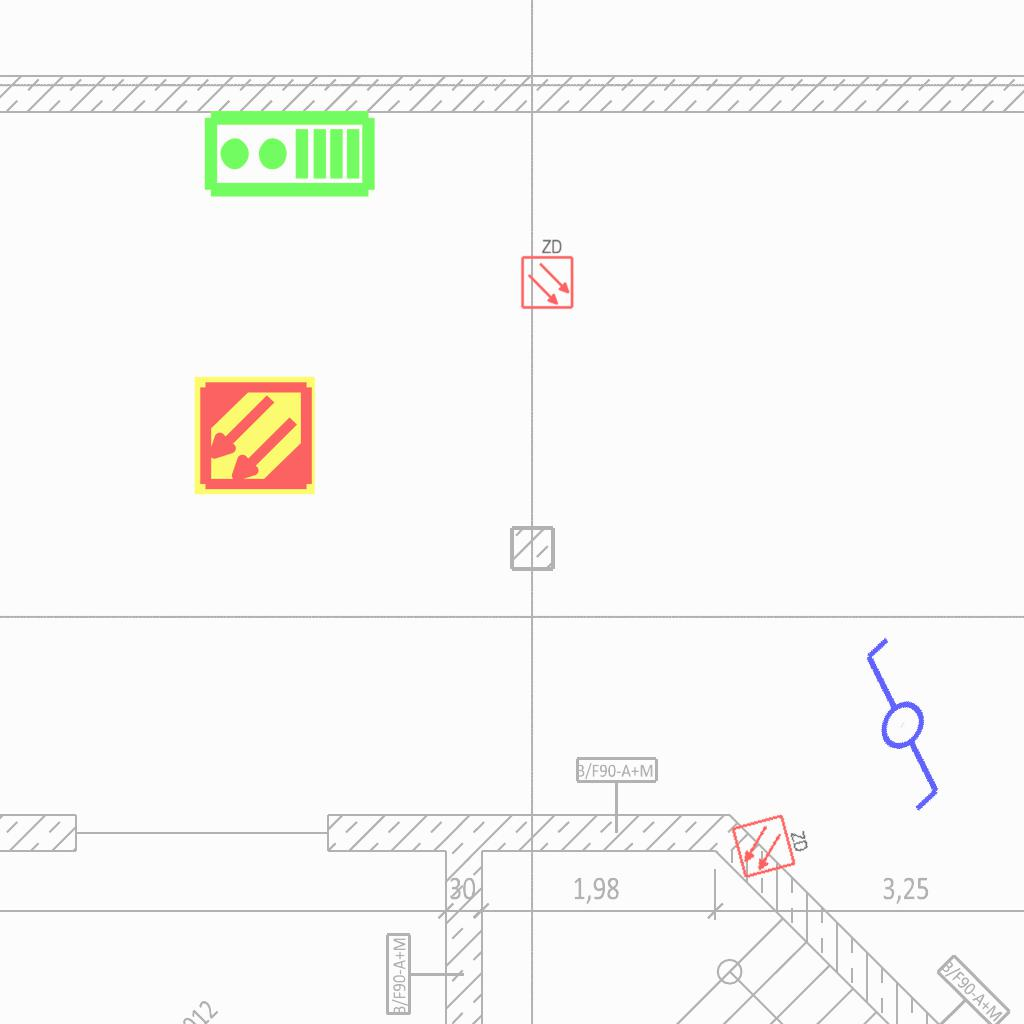ASR_Ansaugrauchmelder: (192, 373, 317, 498)
Gegensprechanlage_mit_Video: (201, 108, 377, 203)
Wechselschalter: (794, 626, 999, 836)
ZD_Melder_in_Zwischendecke_mit_Revisionsoeffnung_mind_40_x_40_cm: (729, 805, 816, 881), (518, 236, 575, 310)
